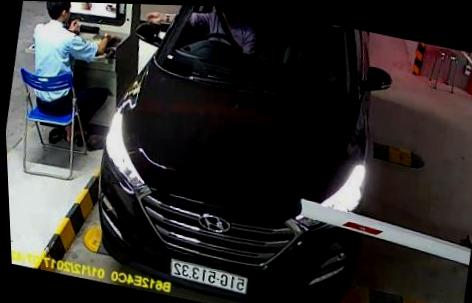License_Plate: (169, 256, 253, 293)
